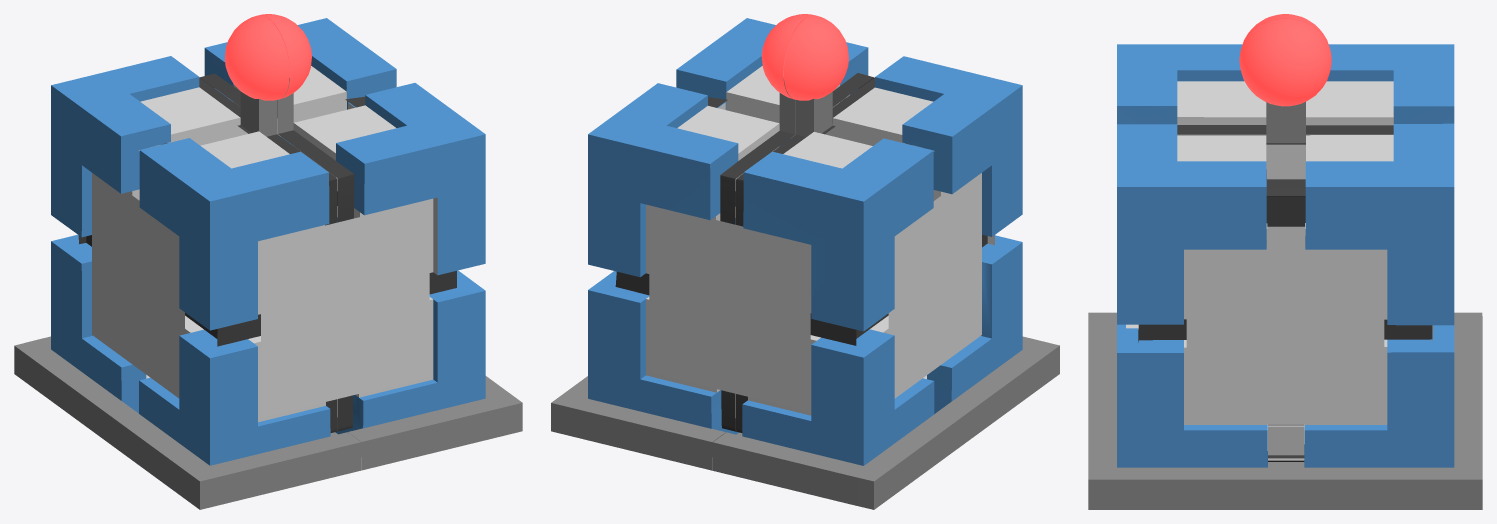
File: Normal box.fbx
3 views of the same model, side by side, from view 1: azimuth 30°, elevation 25°; view 2: azimuth 150°, elevation 25°; view 3: azimuth 270°, elevation 25° (orthographic). The views are drawn at different scales.
Visible parts, largest first — view 1: First cube; view 2: First cube; view 3: First cube.
Part boxes in pixels (x1,y1,x2,y2): First cube: (14, 14, 522, 509); First cube: (551, 14, 1059, 509); First cube: (1088, 14, 1482, 509).
Size of the model in its own units: 680 by 774 by 678.
Materials: 6 (5 with a texture image).
